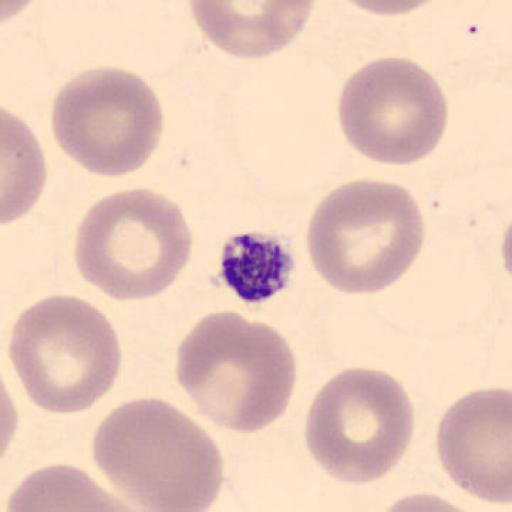Platelet: (215, 228, 298, 305)
RBC: (174, 309, 298, 436), (90, 397, 224, 511), (304, 176, 427, 296), (72, 186, 194, 302), (7, 293, 122, 416), (303, 365, 415, 487), (48, 64, 165, 180), (336, 55, 450, 166), (435, 385, 512, 506), (186, 0, 317, 61), (3, 462, 151, 512), (2, 107, 48, 226), (376, 491, 482, 512), (341, 0, 441, 17), (0, 376, 20, 460), (0, 0, 37, 25), (500, 211, 512, 283)
